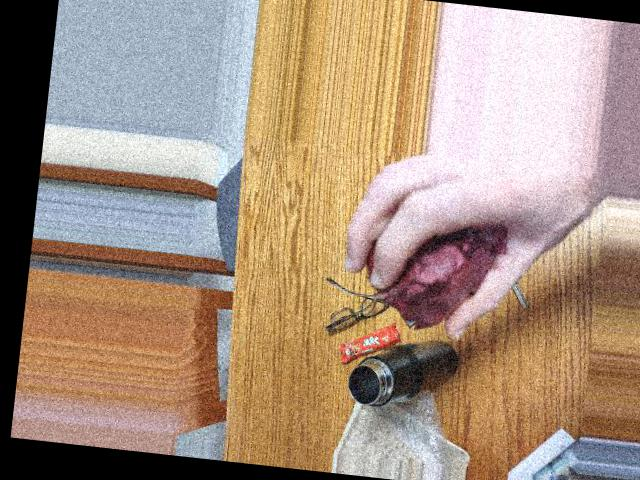onion: (372, 209, 510, 325)
